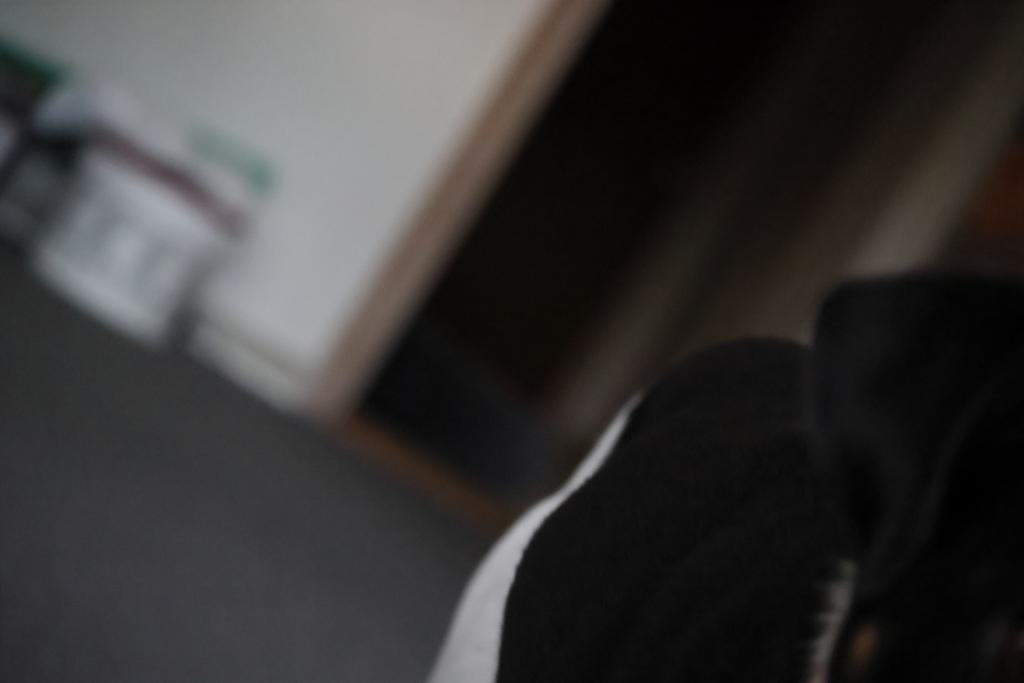Dog: (405, 231, 1024, 683)
